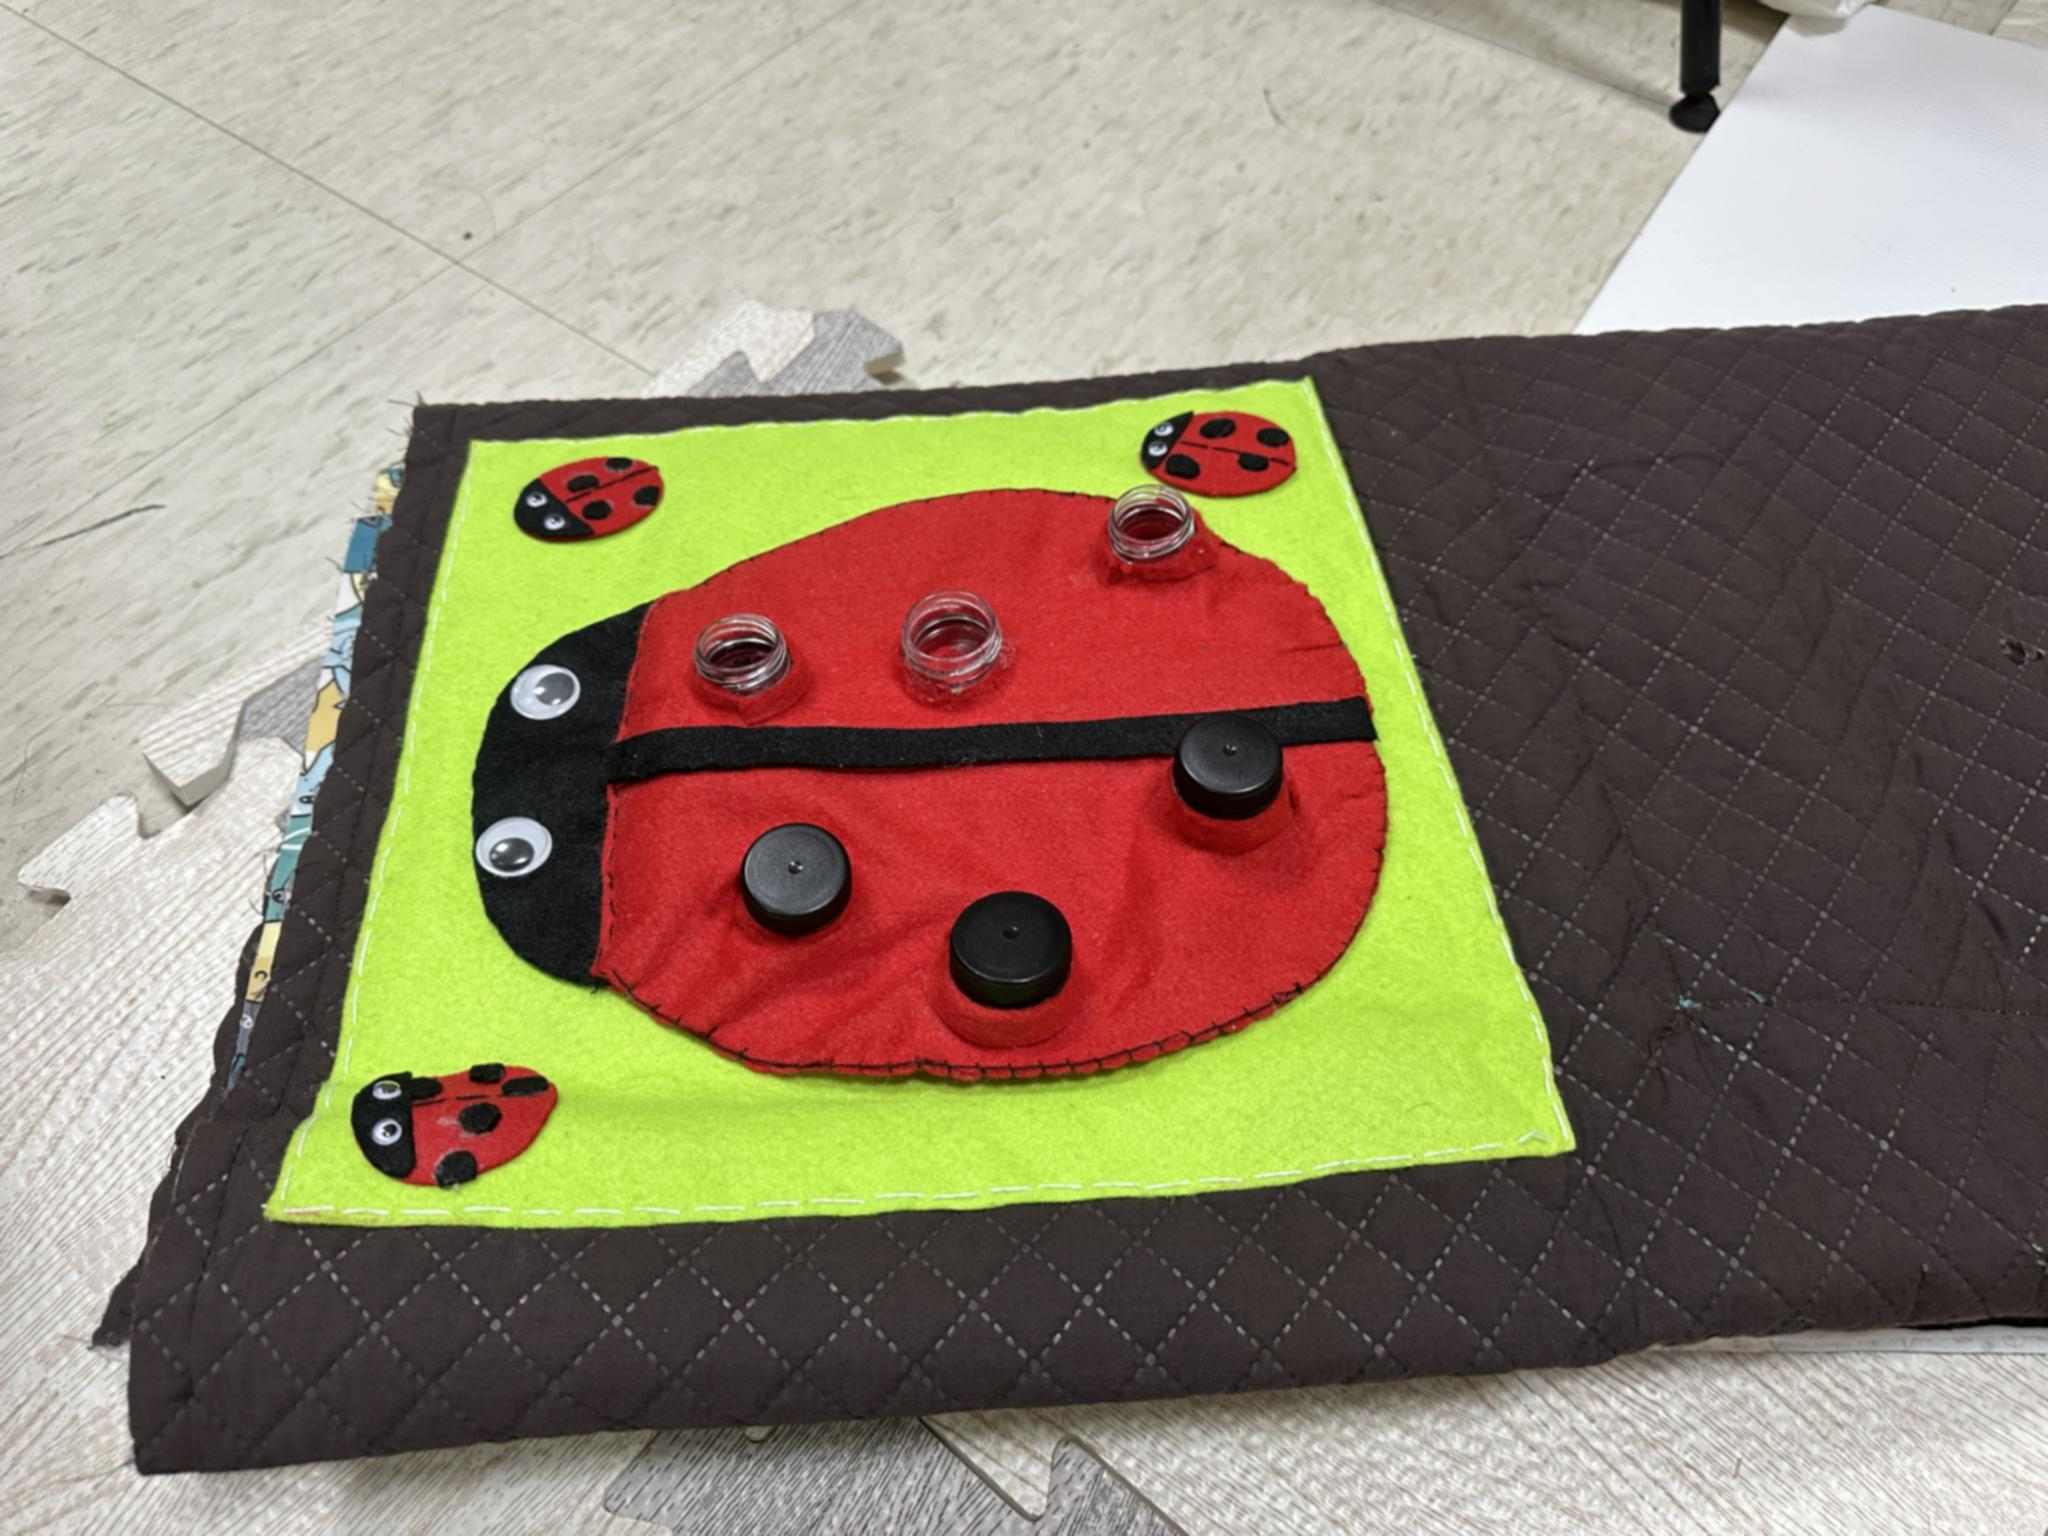cap_ok: (905, 858, 1105, 1054), (1147, 703, 1324, 868), (724, 800, 879, 950)
